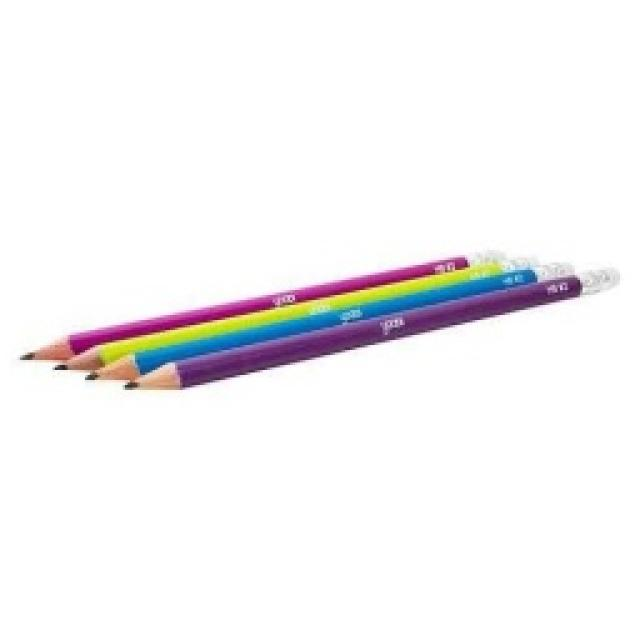pencil: (15, 240, 623, 395)
